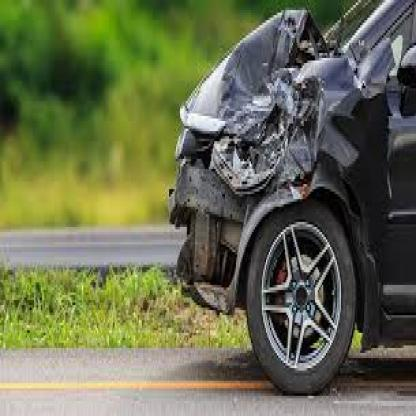accident: (166, 4, 416, 393)
